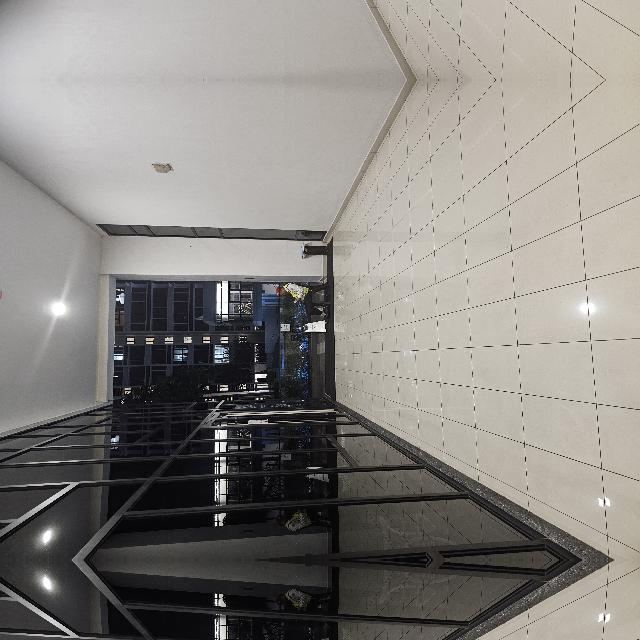obstacle: (299, 380, 319, 410), (225, 381, 241, 409)
person: (250, 352, 286, 408)
